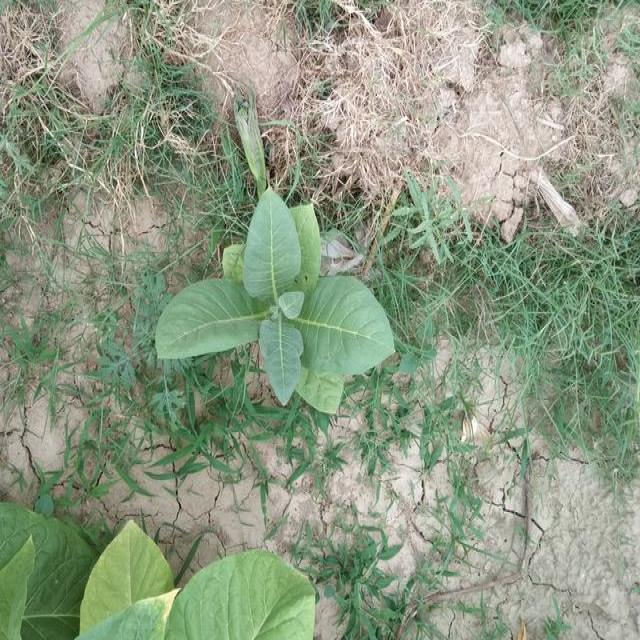crop: (152, 182, 403, 410)
